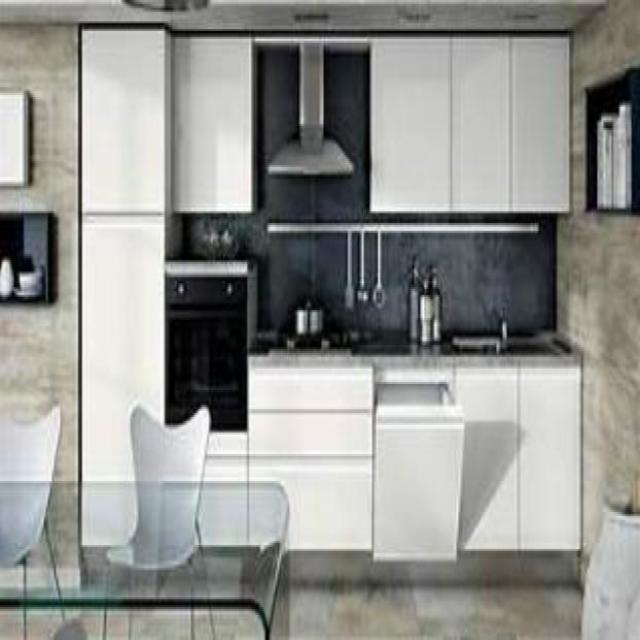dishwasher: (370, 357, 462, 566)
